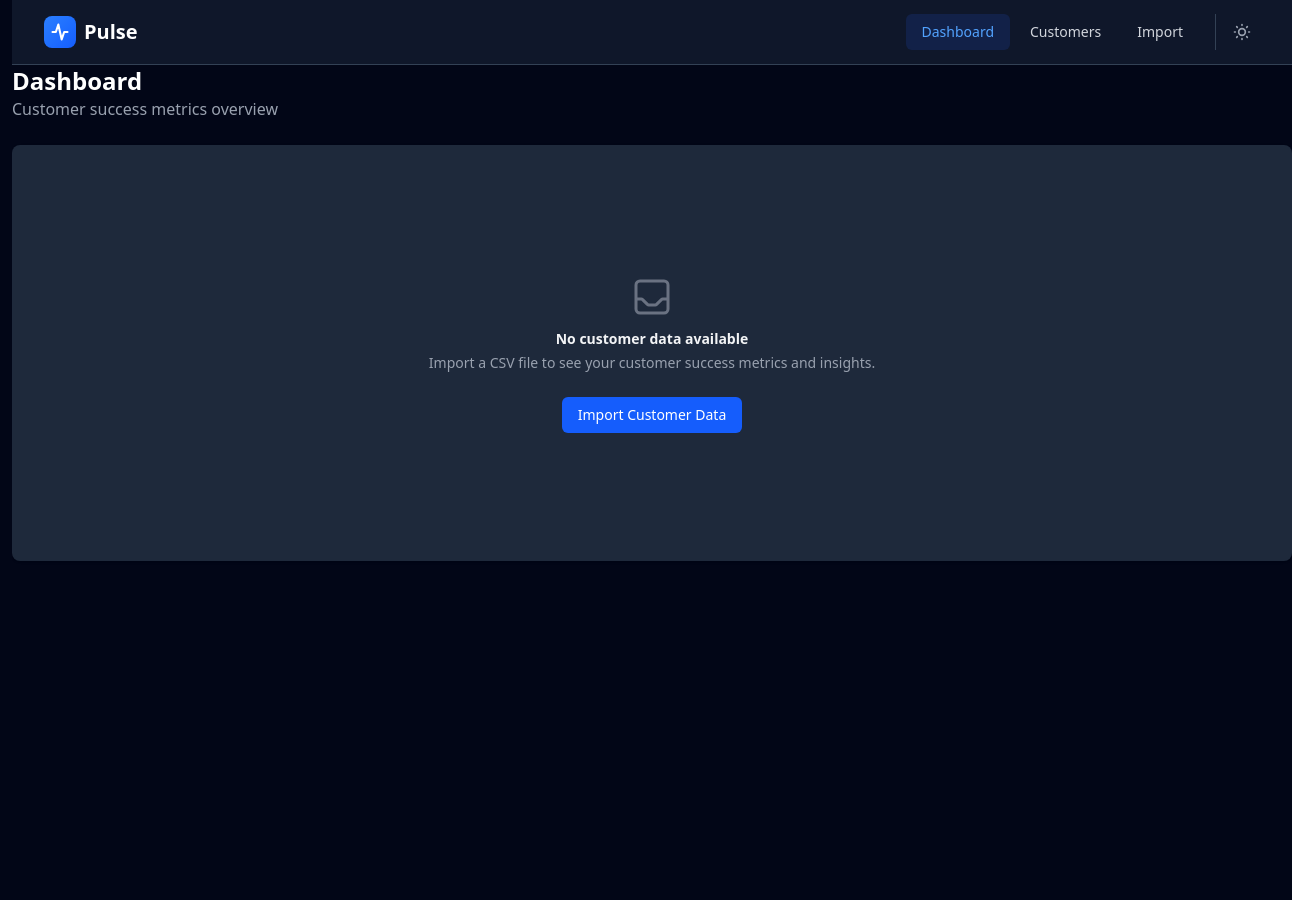
Test: Navigation Flow Integration › Route Transitions › should complete full navigation flow: dashboard -> import -> customers
Check: the heading "Dashboard" is shown, box [12,64,142,97]
Step 1. Click the link to "/import" → (1160, 32), box [1137,22,1183,41]
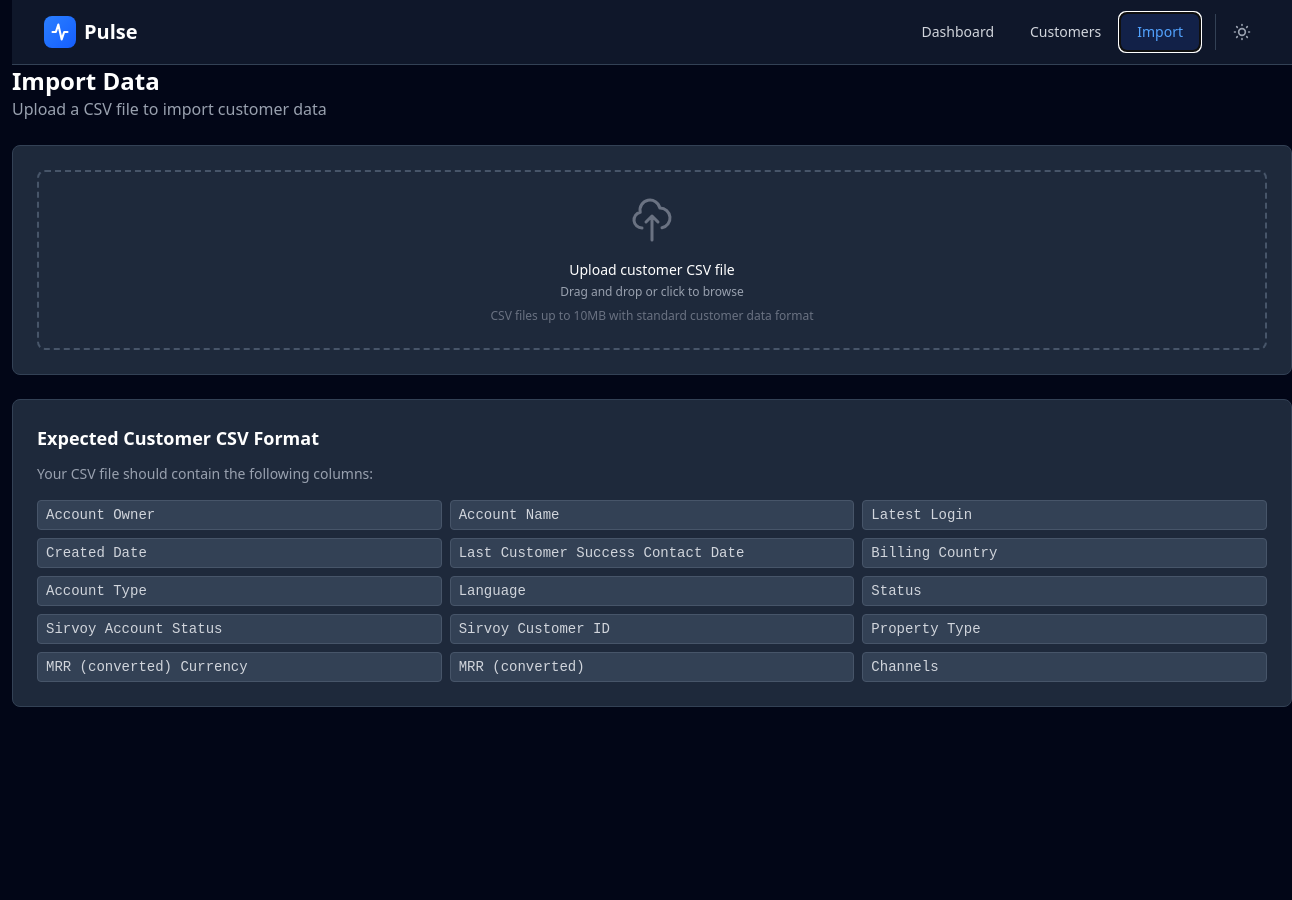
Check: the heading "Import Data" is shown, box [12,64,160,97]
# Navigate to customers
Step 2. Click the link "Customers" → (1066, 32), box [1030,22,1101,41]
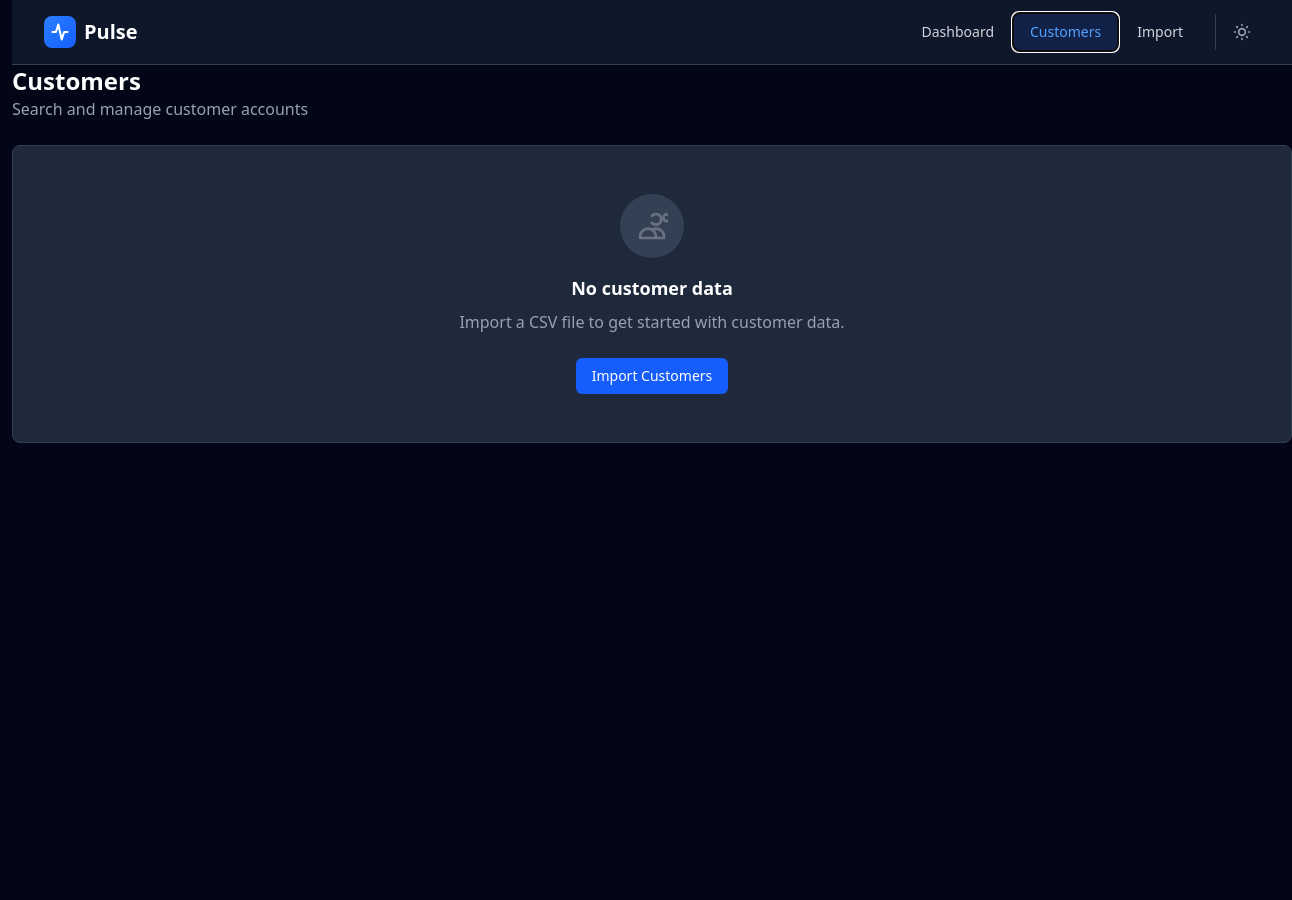
Check: the heading "Customers" is shown, box [12,64,141,97]
